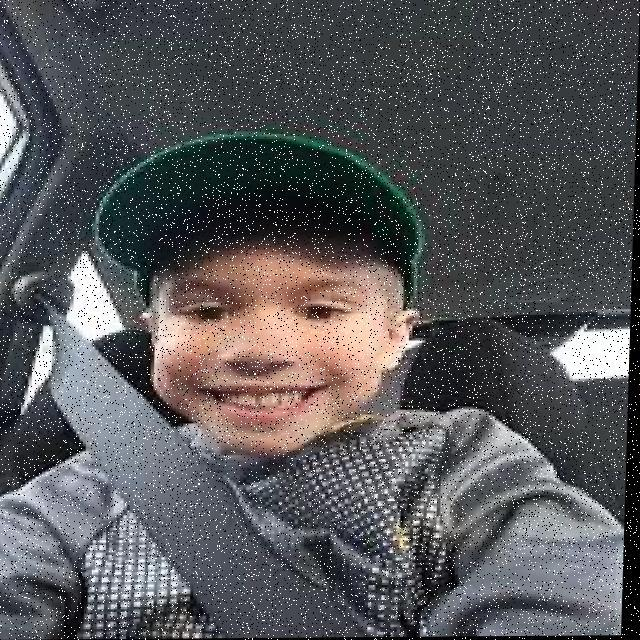seatbelt: (0, 362, 554, 640)
